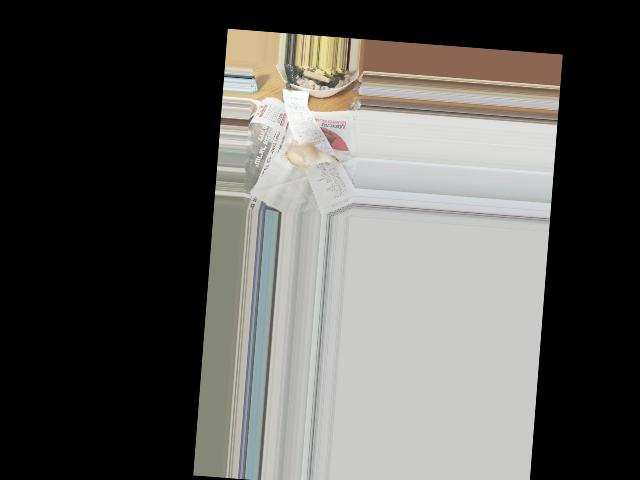onion: (287, 141, 324, 169)
